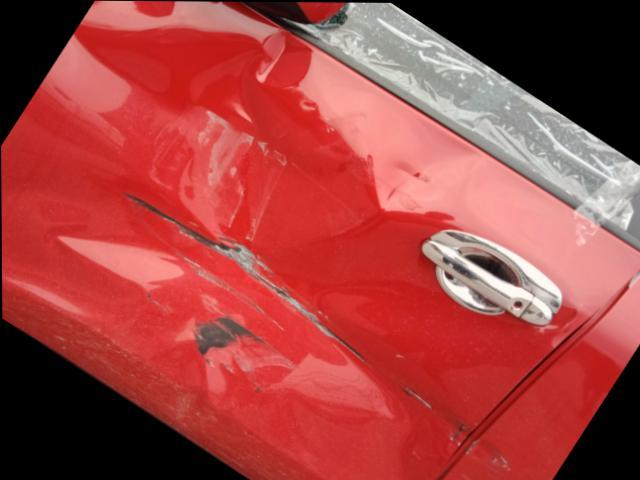dent: (1, 20, 573, 480)
